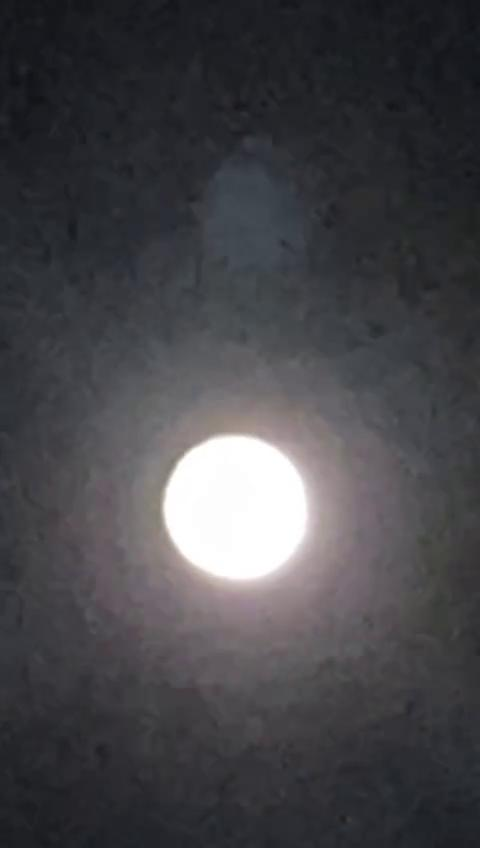moon: (180, 408, 352, 600)
